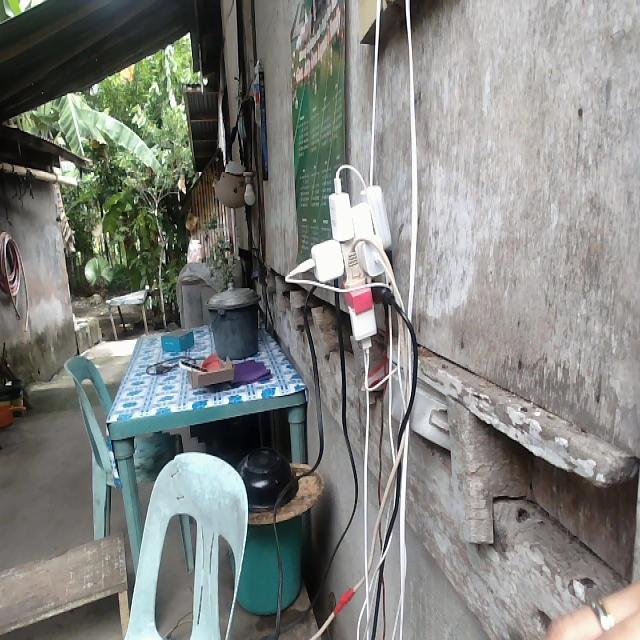-: (284, 164, 394, 364)
